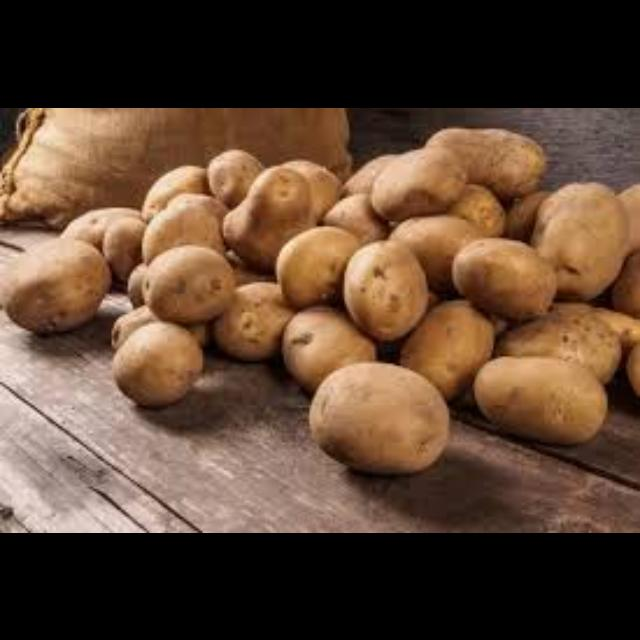Diseased-fungal potato: (302, 358, 458, 476), (467, 345, 613, 451), (216, 164, 324, 274), (0, 236, 118, 336), (336, 233, 426, 343), (450, 230, 554, 322), (108, 324, 215, 410), (137, 240, 233, 334), (362, 142, 468, 224)
